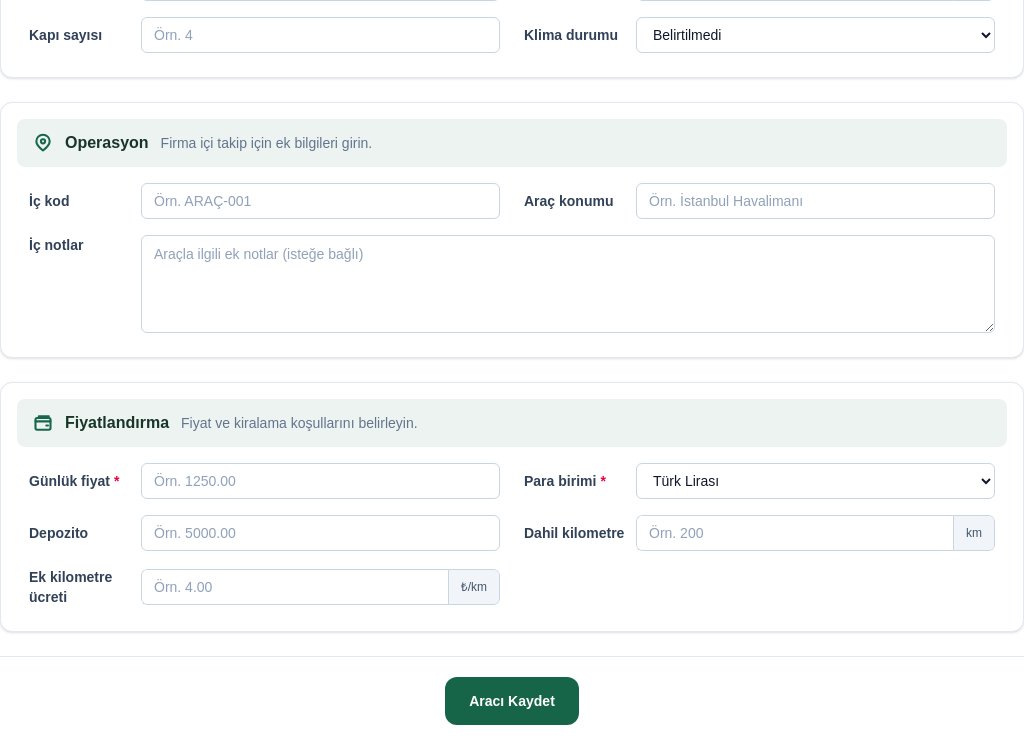
Test case: VehicleForm › zorunlu alanlar boşken gönderimi engeller
(page scrolled)
Step 1. Click the button "Aracı Kaydet" → [512, 701], box left=445, top=677, right=579, bottom=725
(page scrolled)
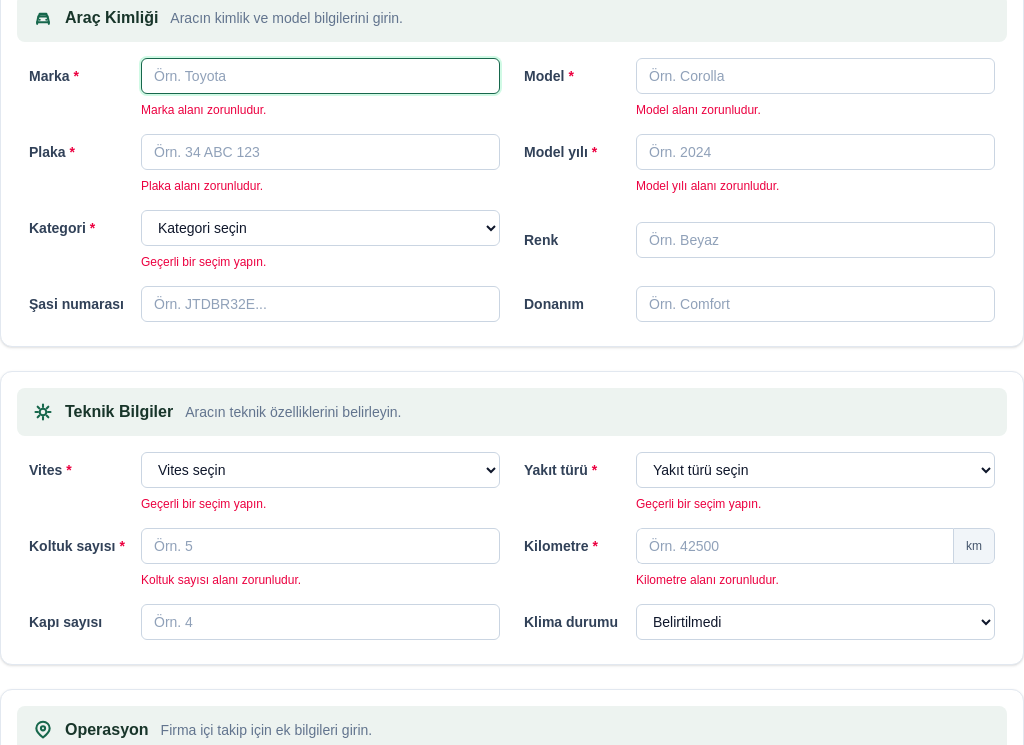
Expected: the message "Marka alanı zorunludur." is shown, left=141, top=103, right=266, bottom=117
